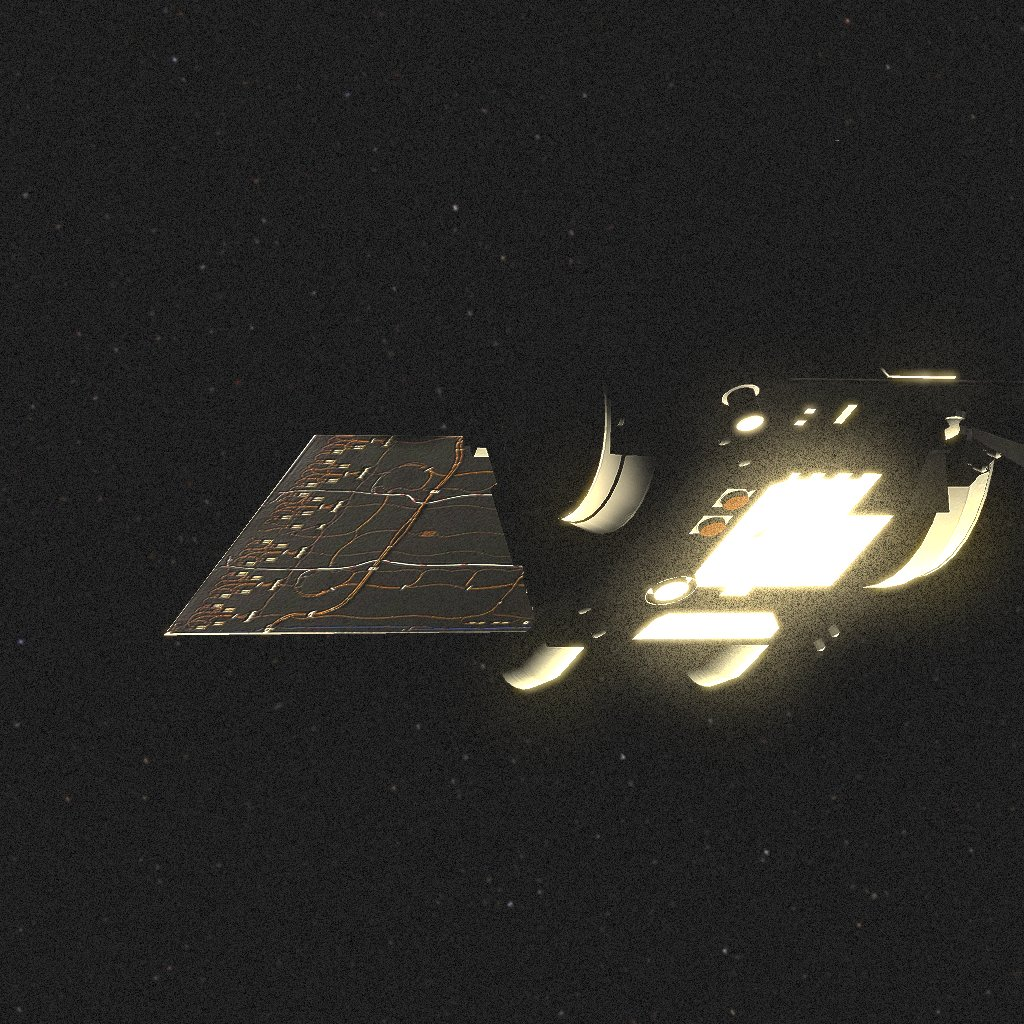proba_3_csc: (159, 208, 992, 678)
